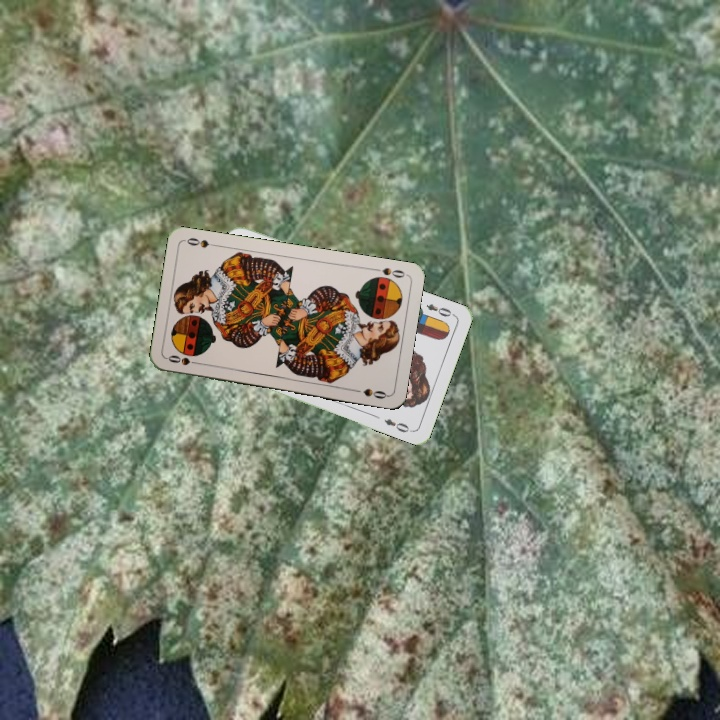EO: (422, 300, 457, 319)
SO: (164, 351, 204, 368), (368, 263, 408, 280)
